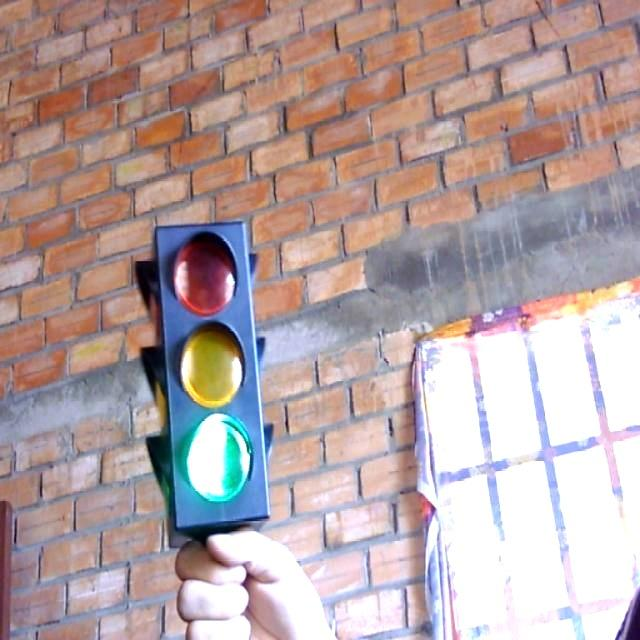Green: (136, 212, 284, 534)
